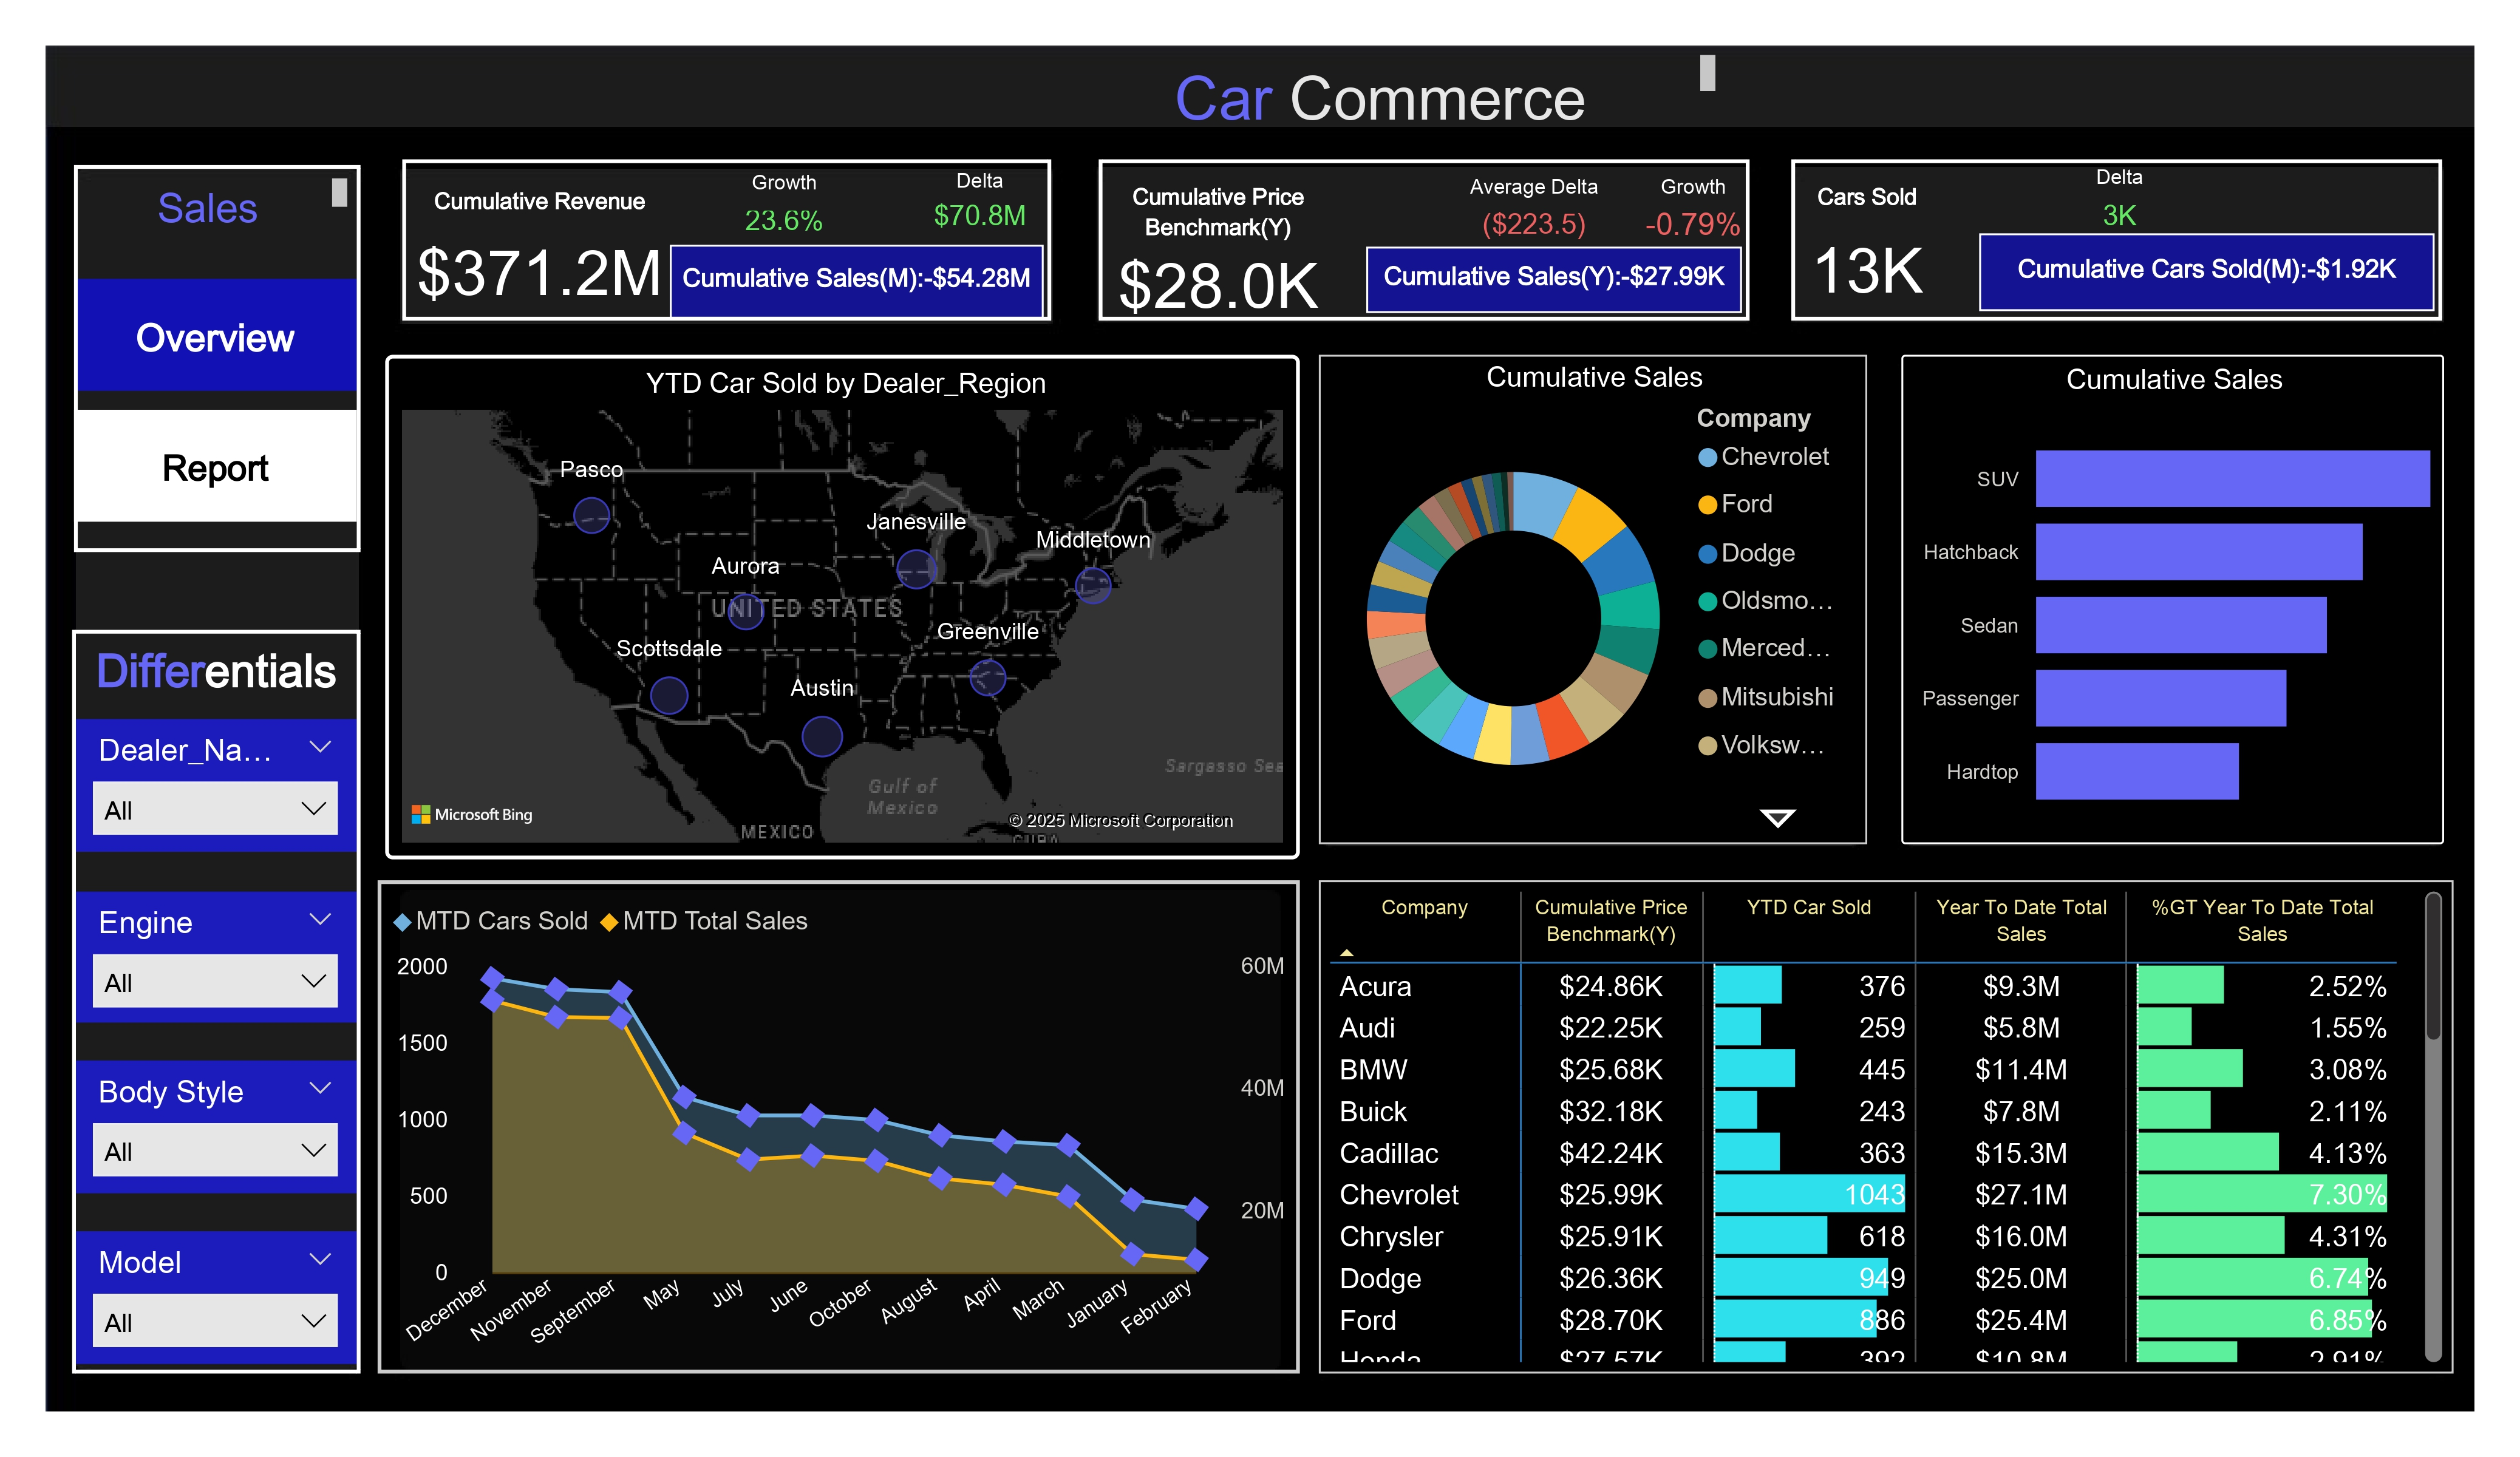

Layout of this report page (visuals, bound fields, positions):
{"tool":"powerbi","page":{"name":"Overview","canvas":[1280,720],"ordinal":0},"visuals":[{"type":"card","title":"Cumulative Revenue","fields":{"Values":["car_data.Year To Date Total Sales"]},"box":[172.5,72.5,175,76.2],"z":0},{"type":"card","title":"Delta","fields":{"Values":["car_data.Sales Delta"]},"box":[455,63.8,75,41.2],"z":1000},{"type":"card","title":"Growth","fields":{"Values":["car_data.Sales Growth"]},"box":[351.2,65,76.2,37.5],"z":2000},{"type":"card","fields":{"Values":["car_data.MTD Total"]},"box":[328.8,105,197.5,38.8],"z":3000},{"type":"card","title":"Cumulative Price Benchmark(Y)","fields":{"Values":["car_data.Cumulative Price Benchmark(Y)"]},"box":[530,71,176,77],"z":4000},{"type":"card","title":"Average Delta","fields":{"Values":["car_data.Average Price Spread"]},"box":[693,67,183,44],"z":5000},{"type":"card","title":"Growth","fields":{"Values":["car_data.YoY  Avg Price Growth"]},"box":[777,67,183,44],"z":6000},{"type":"card","fields":{"Values":["car_data.YTD Total"]},"box":[696.2,106.2,197.5,35],"z":7000},{"type":"card","title":"Cars Sold","fields":{"Values":["car_data.YTD Car Sold"]},"box":[872.2,71.1,175.6,76.7],"z":8000},{"type":"card","title":"Delta","fields":{"Values":["car_data.Cars Sold Diff"]},"box":[1002.2,62.2,182.2,44.4],"z":9000},{"type":"card","fields":{"Values":["car_data.MTD Cars Sold N"]},"box":[1018.8,98.8,240,41.2],"z":10000},{"type":"barChart","title":"Cumulative Sales","fields":{"Category":["car_data.Body Style"],"Y":["car_data.Year To Date Total Sales"]},"box":[977.5,162.5,286.2,258.8],"z":11000},{"type":"donutChart","title":"Cumulative Sales","fields":{"Y":["car_data.Year To Date Total Sales"],"Category":["car_data.Company"]},"box":[671.2,162.5,288.8,258.8],"z":12000},{"type":"map","fields":{"Category":["car_data.Dealer_Region"],"Size":["car_data.YTD Car Sold"]},"box":[178.8,162.5,482.5,266.2],"z":13000},{"type":"pivotTable","fields":{"Values":["car_data.Cumulative Price Benchmark(Y)","car_data.YTD Car Sold","car_data.Year To Date Total Sales1","car_data.Year To Date Total Sales"],"Rows":["car_data.Company"]},"box":[670.9,439.5,597.7,260.5],"z":14000},{"type":"slicer","fields":{"Values":["car_data.Dealer_Name"]},"box":[15,355,148.8,70],"z":15000},{"type":"slicer","fields":{"Values":["car_data.Model"]},"box":[15,625,148.8,70],"z":16000},{"type":"slicer","fields":{"Values":["car_data.Body Style"]},"box":[15,535,148.8,70],"z":17000},{"type":"slicer","fields":{"Values":["car_data.Engine"]},"box":[15,446.2,148.8,68.8],"z":18000},{"type":"textbox","box":[15.1,65.1,148.8,37.2],"z":19000},{"type":"pageNavigator","box":[15.1,123.3,148.8,127.9],"z":20000},{"type":"textbox","box":[8.1,307,164,53.5],"z":21000},{"type":"textbox","box":[530.2,0,354.7,50],"z":22000},{"type":"shape","box":[187.5,60,342.5,85],"z":23000},{"type":"lineChart","fields":{"Y":["car_data.MTD Cars Sold"],"Category":["Date.Month"],"Y2":["car_data.MTD Total Sales"]},"box":[175,440,486.2,260],"z":24000},{"type":"shape","box":[555,60,342.5,85],"z":25000},{"type":"shape","box":[920,60,342.5,85],"z":26000},{"type":"shape","box":[13.8,307.5,152.5,392.5],"z":27000},{"type":"shape","box":[14.5,62.5,151.9,204.3],"z":28000}]}

Visuals, with their boxes on the page's 1280x720 design canvas (x1, y1, x2, y2). These are canvas units, not pixel positions in the 2520x1457 screenshot, which may show the page scaled, cropped or inside an application window:
"Cumulative Revenue" card: x1=172, y1=72, x2=348, y2=149
"Delta" card: x1=455, y1=64, x2=530, y2=105
"Growth" card: x1=351, y1=65, x2=427, y2=102
card - car_data.MTD Total: x1=329, y1=105, x2=526, y2=144
"Cumulative Price Benchmark(Y)" card: x1=530, y1=71, x2=706, y2=148
"Average Delta" card: x1=693, y1=67, x2=876, y2=111
"Growth" card: x1=777, y1=67, x2=960, y2=111
card - car_data.YTD Total: x1=696, y1=106, x2=894, y2=141
"Cars Sold" card: x1=872, y1=71, x2=1048, y2=148
"Delta" card: x1=1002, y1=62, x2=1184, y2=107
card - car_data.MTD Cars Sold N: x1=1019, y1=99, x2=1259, y2=140
"Cumulative Sales" barChart: x1=978, y1=162, x2=1264, y2=421
"Cumulative Sales" donutChart: x1=671, y1=162, x2=960, y2=421
map - car_data.Dealer_Region x car_data.YTD Car Sold: x1=179, y1=162, x2=661, y2=429
pivotTable - car_data.Cumulative Price Benchmark(Y) x car_data.YTD Car Sold: x1=671, y1=440, x2=1269, y2=700
slicer - car_data.Dealer_Name: x1=15, y1=355, x2=164, y2=425
slicer - car_data.Model: x1=15, y1=625, x2=164, y2=695
slicer - car_data.Body Style: x1=15, y1=535, x2=164, y2=605
slicer - car_data.Engine: x1=15, y1=446, x2=164, y2=515
textbox: x1=15, y1=65, x2=164, y2=102
pageNavigator: x1=15, y1=123, x2=164, y2=251
textbox: x1=8, y1=307, x2=172, y2=360
textbox: x1=530, y1=0, x2=885, y2=50
shape: x1=188, y1=60, x2=530, y2=145
lineChart - car_data.MTD Cars Sold x Date.Month: x1=175, y1=440, x2=661, y2=700
shape: x1=555, y1=60, x2=898, y2=145
shape: x1=920, y1=60, x2=1262, y2=145
shape: x1=14, y1=308, x2=166, y2=700
shape: x1=14, y1=62, x2=166, y2=267
